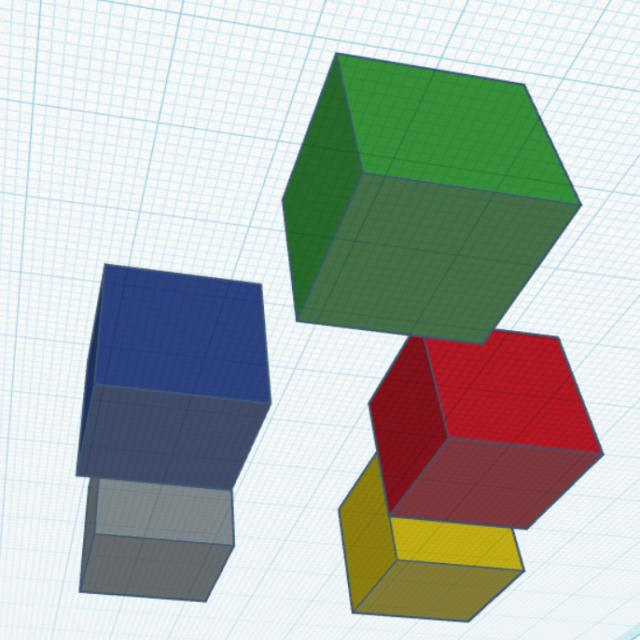cube: (278, 49, 586, 348), (364, 324, 608, 534), (70, 262, 276, 494)
